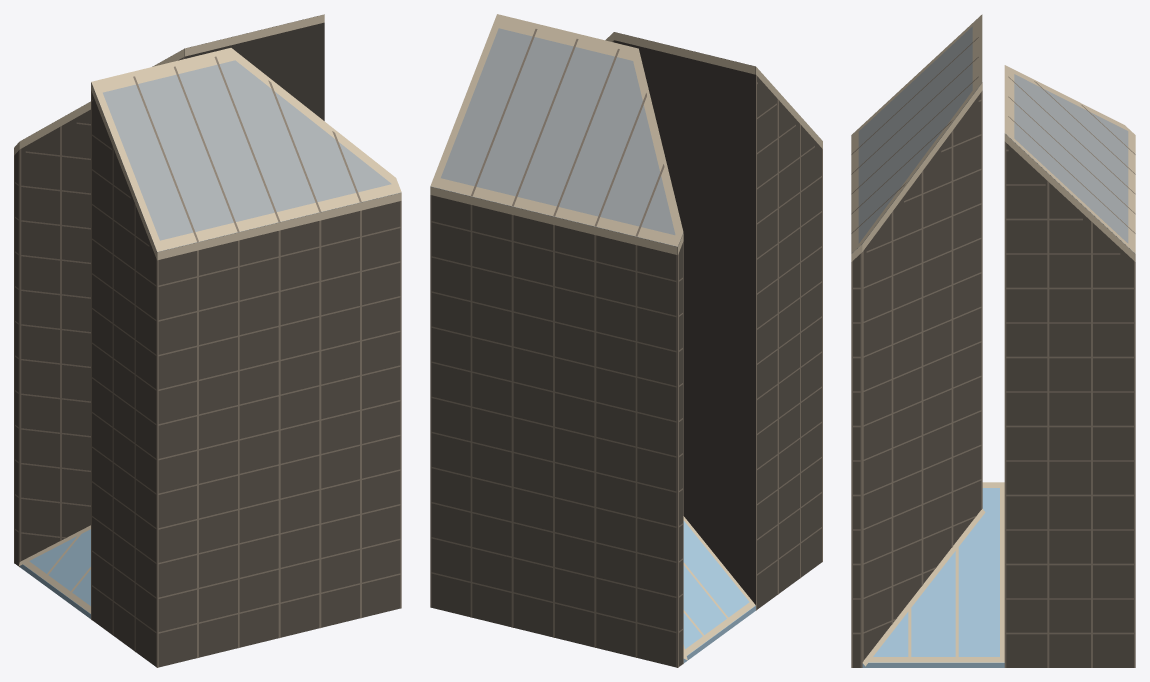
Rendered from hou-pennzoil-place.glb.
3 renders of one model, left to right at view 1: azimuth 30°, elevation 25°; view 2: azimuth 150°, elevation 25°; view 3: azimuth 270°, elevation 25°, orthographic.
Parts seen in each view (by area): view 1: Pennzoil Place; view 2: Pennzoil Place; view 3: Pennzoil Place.
Part boxes in pixels (<box>): Pennzoil Place: <box>14,14,401,667</box>; Pennzoil Place: <box>430,14,822,667</box>; Pennzoil Place: <box>851,14,1135,667</box>.
Size of the model in its own units: 77.7 by 160 by 77.12.
